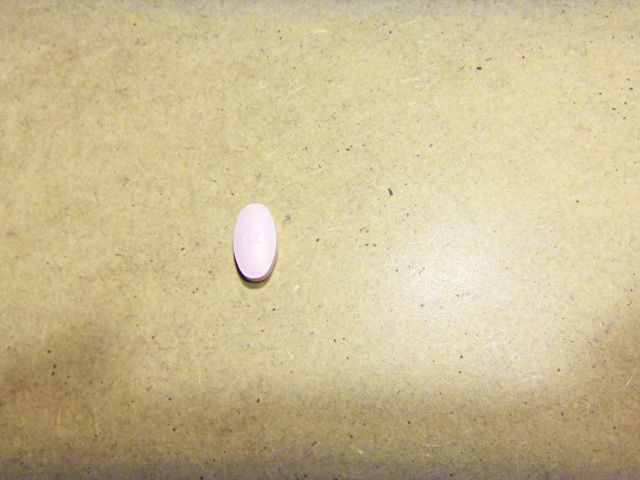R: (243, 229, 268, 247)
